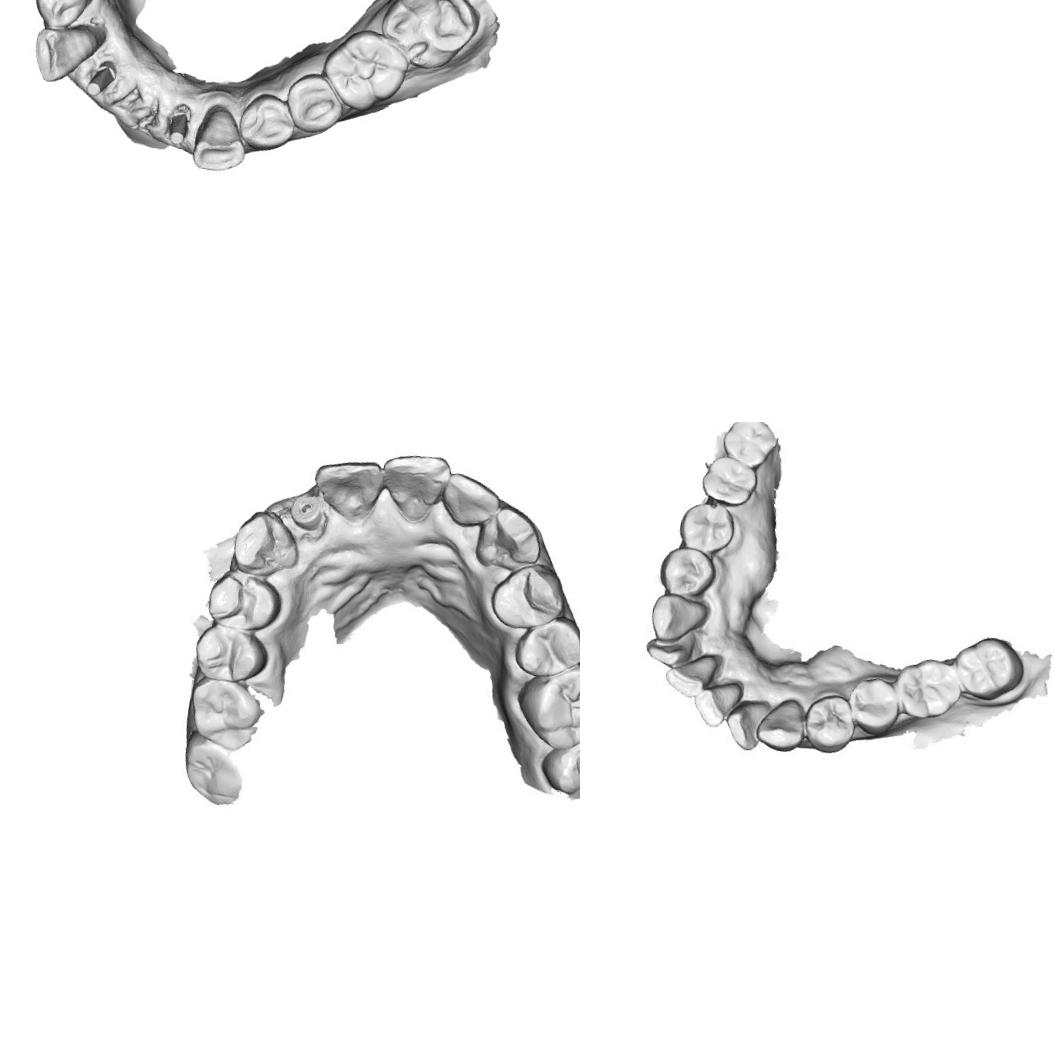abutment: (162, 108, 196, 151), (82, 62, 116, 101)
canine: (467, 501, 549, 582), (226, 505, 304, 581), (29, 19, 103, 89), (188, 100, 253, 177), (758, 691, 808, 753), (650, 590, 706, 640)
implant: (285, 492, 327, 532)
incisor: (307, 450, 390, 522), (374, 447, 450, 525), (438, 469, 505, 535), (642, 626, 702, 670), (727, 699, 772, 756), (696, 679, 742, 733), (666, 650, 721, 694)
molar: (316, 19, 416, 119), (372, 0, 484, 77), (508, 651, 580, 761), (180, 674, 268, 755), (946, 630, 1029, 709), (886, 652, 966, 725), (698, 448, 766, 511), (717, 422, 781, 472)
premolar: (485, 554, 574, 636), (188, 621, 277, 690), (202, 566, 283, 638), (511, 609, 580, 683), (280, 70, 348, 137), (676, 494, 744, 560), (654, 538, 720, 604), (235, 87, 298, 154), (802, 690, 860, 756), (847, 676, 903, 740), (29, 0, 95, 35)
